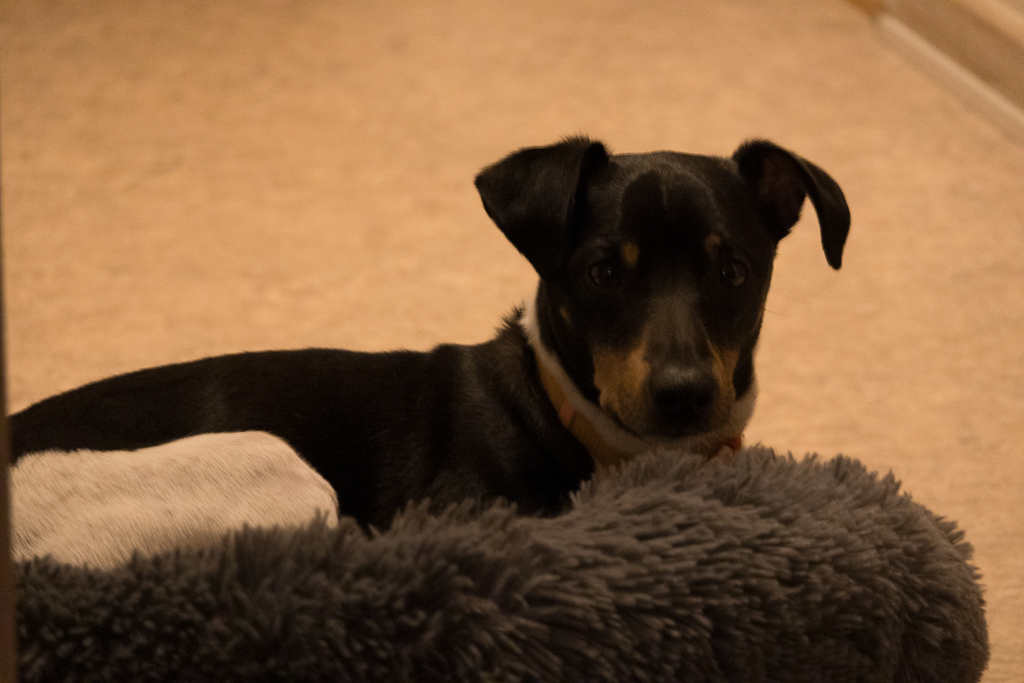Dog: (0, 119, 857, 599)
